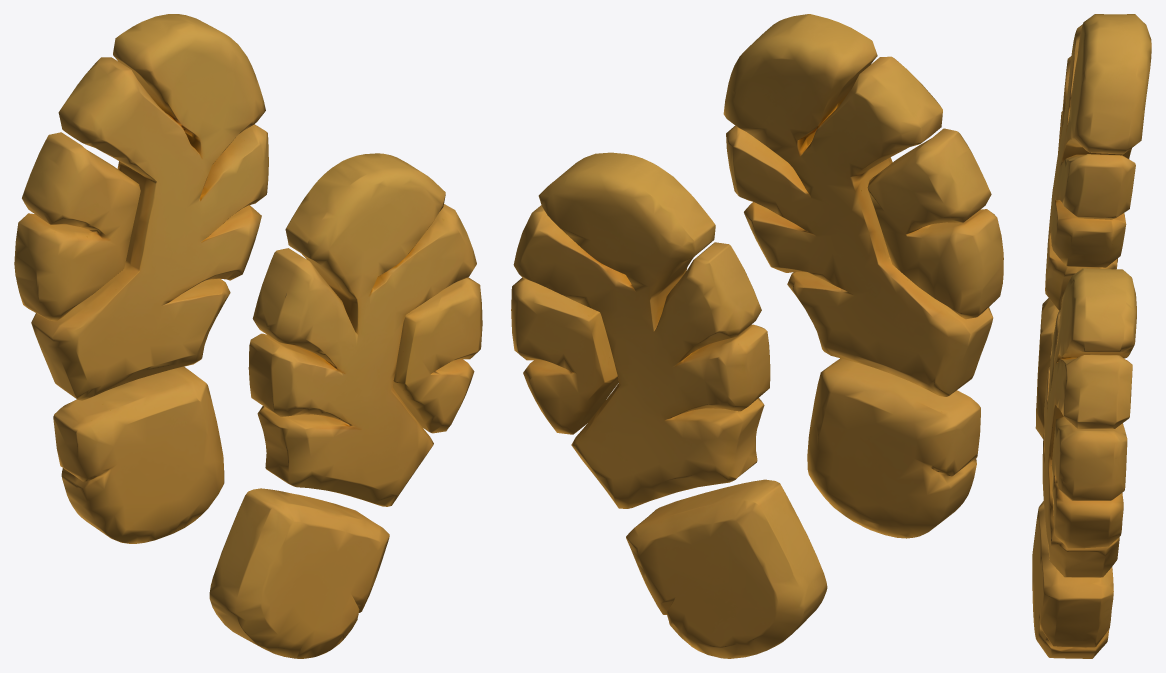
Rendered from footprints_(movement_icon).fbx.
3 views of the same model, side by side, from view 1: azimuth 30°, elevation 25°; view 2: azimuth 150°, elevation 25°; view 3: azimuth 270°, elevation 25° (orthographic). The views are drawn at different scales.
Visible parts, largest first — view 1: tripo_node_b622f823; view 2: tripo_node_b622f823; view 3: tripo_node_b622f823.
Part boxes in pixels (left/top/right/bottom): tripo_node_b622f823: left=14, top=14, right=482, bottom=658; tripo_node_b622f823: left=511, top=14, right=1003, bottom=658; tripo_node_b622f823: left=1032, top=14, right=1151, bottom=658.
Size of the model in its own units: 73.54 by 18.49 by 100.
1 material, 1 textured.
